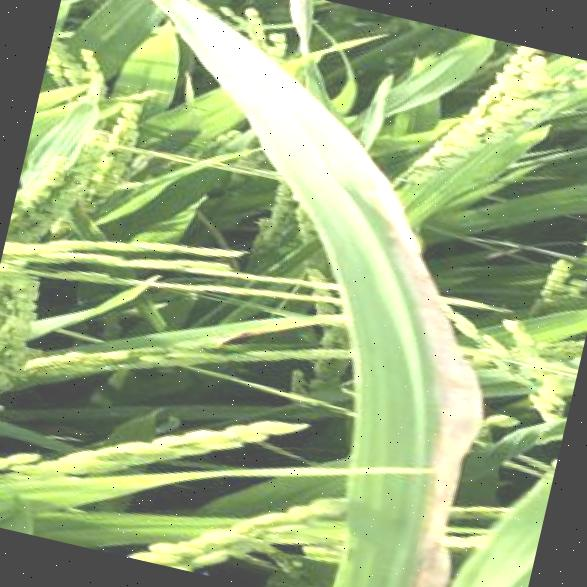Bacteria_Leaf_Blight: (283, 224, 514, 587)
